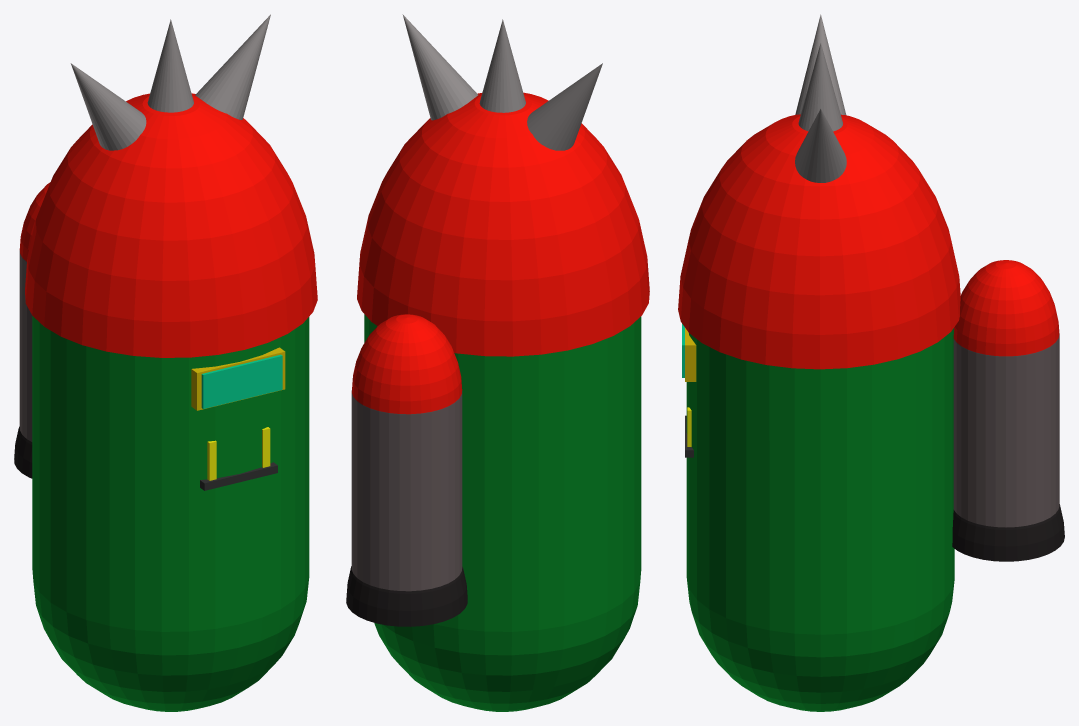
File: ork.glb
3 views of the same model, side by side, from view 1: azimuth 30°, elevation 25°; view 2: azimuth 150°, elevation 25°; view 3: azimuth 270°, elevation 25° (orthographic). The views are drawn at different scales.
Visible parts, largest first — view 1: body, hat, spike1.001, spike1.002, glass, spike1, rocket_body, glasses, mouth, rocket_top, rockte_bottom; view 2: body, hat, rocket_body, rocket_top, rockte_bottom, spike1.001, spike1.002, spike1; view 3: body, hat, rocket_body, rocket_top, rockte_bottom, spike1.002, spike1, spike1.001.
Boxes of the visible parts, x1,y1,x2,y2 form: body: (32,316,309,711); hat: (25,93,317,357); spike1.001: (70,63,146,150); spike1.002: (195,14,270,119); glass: (201,354,282,408); spike1: (147,19,193,112); rocket_body: (19,250,32,441); glasses: (191,347,285,410); mouth: (200,462,277,490); rocket_top: (19,182,50,261); rockte_bottom: (14,426,32,478); body: (364,314,641,711); hat: (357,92,649,356); rocket_body: (351,390,462,591); rocket_top: (351,314,462,414); rockte_bottom: (346,566,467,626); spike1.001: (527,63,602,150); spike1.002: (402,14,477,120); spike1: (479,19,525,112); body: (686,328,954,711); hat: (678,114,960,369); rocket_body: (953,333,1059,527); rocket_top: (953,260,1059,356); rockte_bottom: (952,504,1064,561); spike1.002: (795,109,846,182); spike1: (798,43,842,131); spike1.001: (795,14,846,114).
Bounding box in the file's own units: 2.12 × 5.41 × 2.89.
